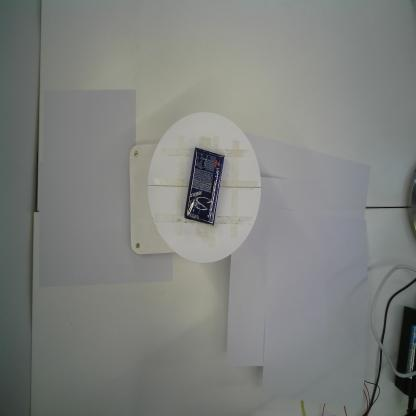Gum: (182, 147, 227, 229)
